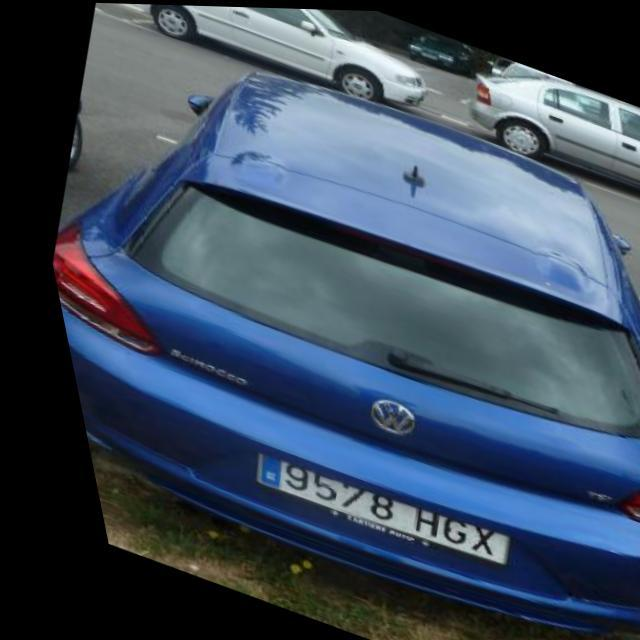license_plate: (228, 444, 494, 571)
